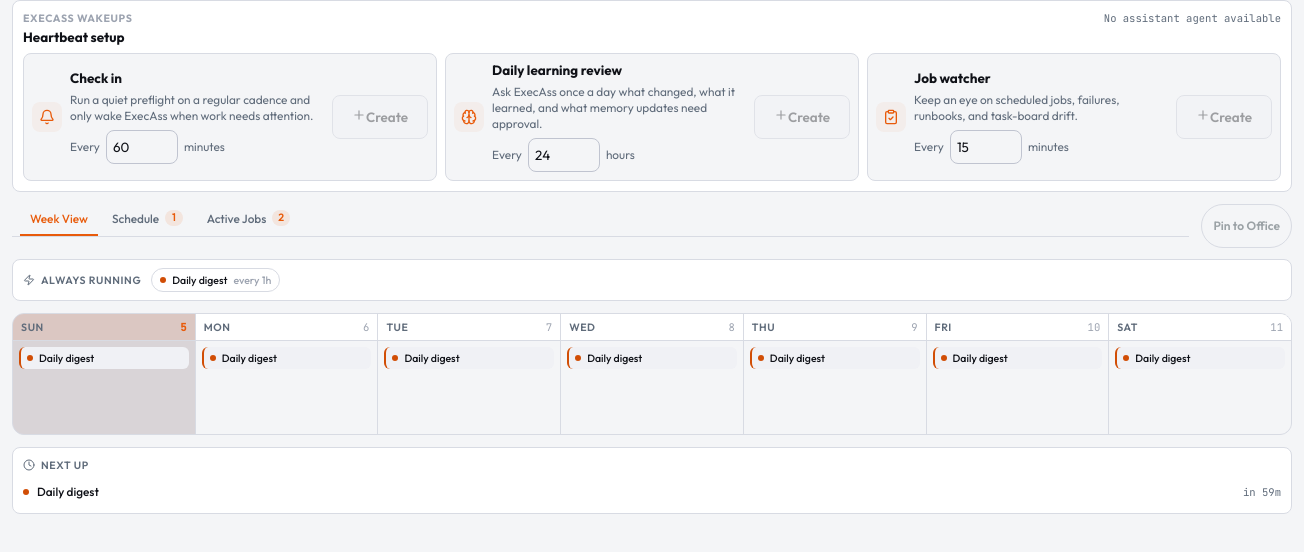
Scenario: CalendarPage safety › keeps every Calendar surface reachable and offers Pin to Office without new mutations
This screenshot has width=1304, height=552.
Expected: the element named "ExecAss heartbeat setup" is shown, [12, 0, 1292, 192]
Click the tab "Schedule 1" at point(147, 219), box [102, 202, 193, 236]
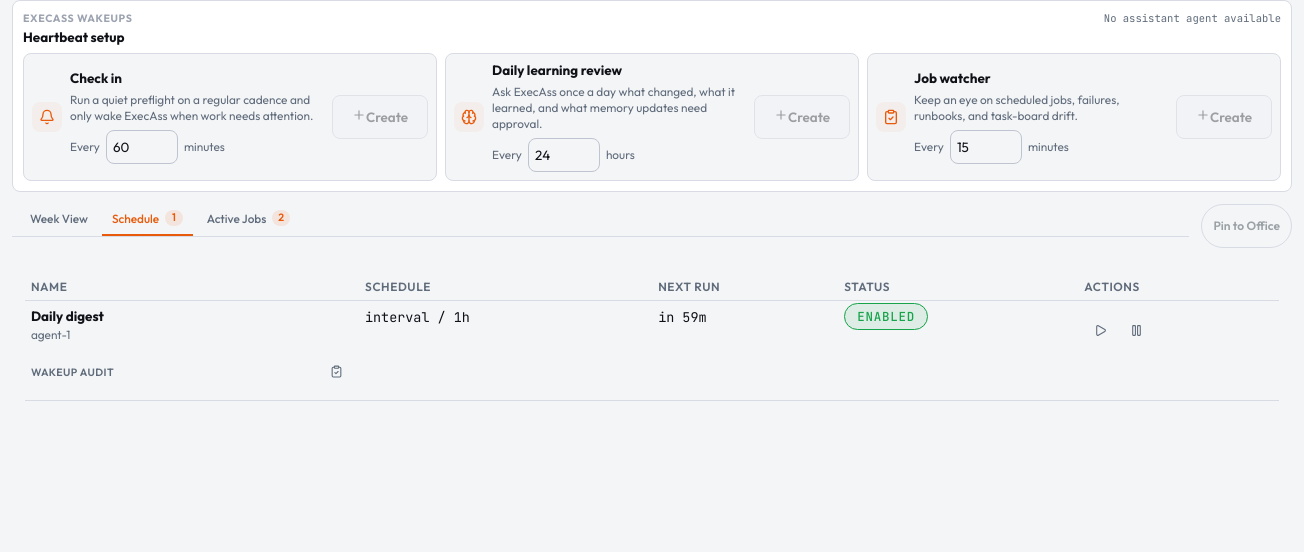
Expected: the table with class "mc-table" is shown, [25, 272, 1279, 401]
Click the tab "Active Jobs 2" at point(248, 219), box [197, 202, 300, 236]
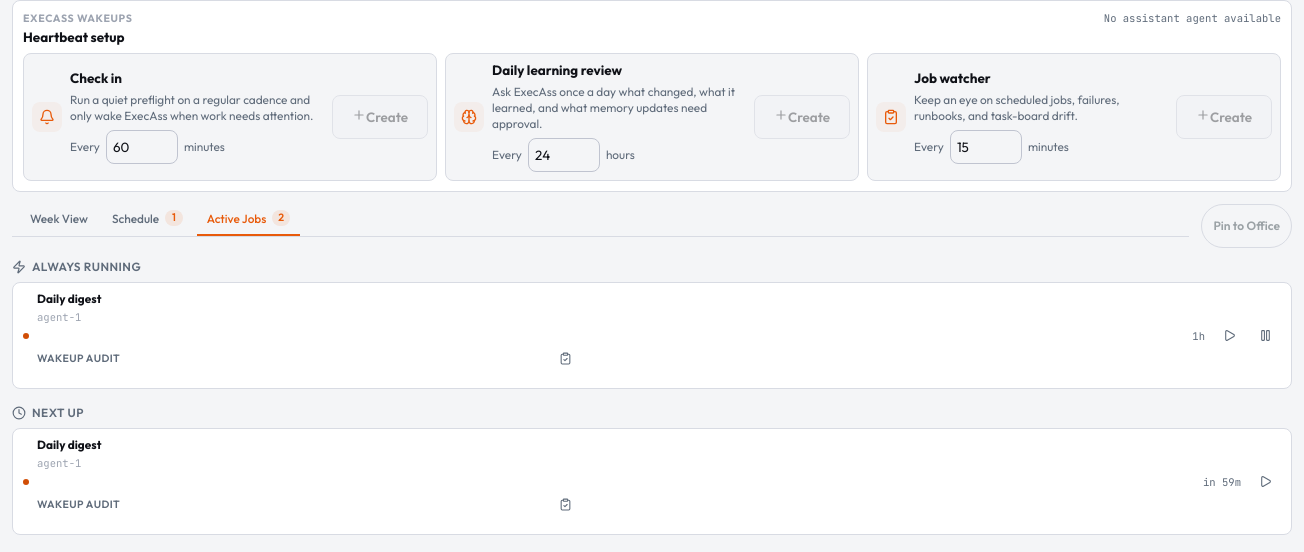
Expected: the element with class "mc-cal-active" is shown, [12, 259, 1292, 535]
Click the button "Pin to Office" at point(1247, 226), box [1201, 204, 1292, 248]
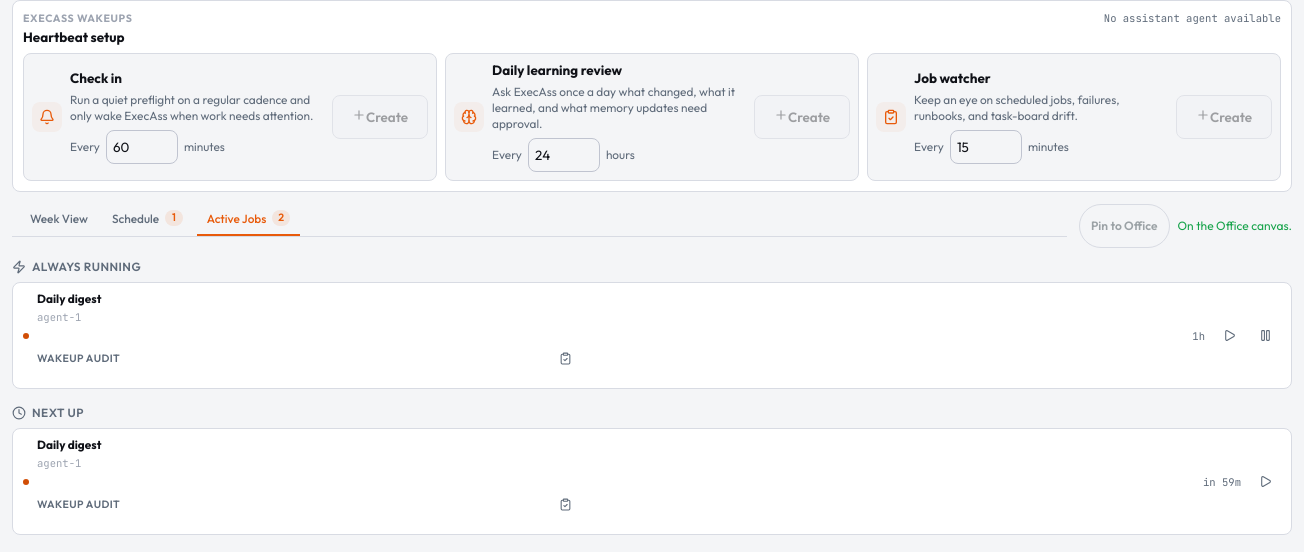
Expected: the message "On the Office canvas." is shown, [1178, 218, 1292, 233]
